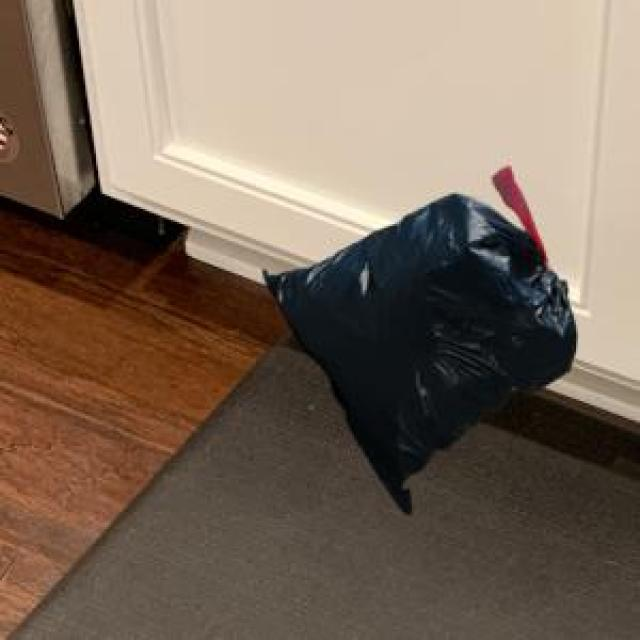Vinyl: (264, 166, 576, 513)
